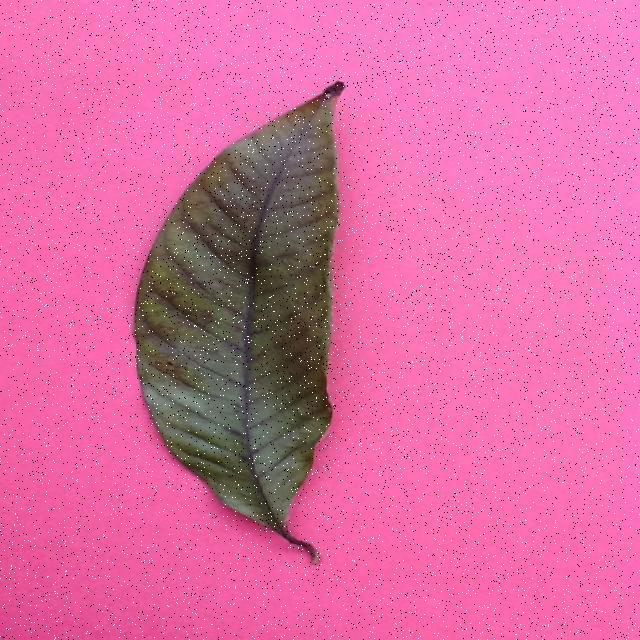foliage: (131, 75, 347, 562)
